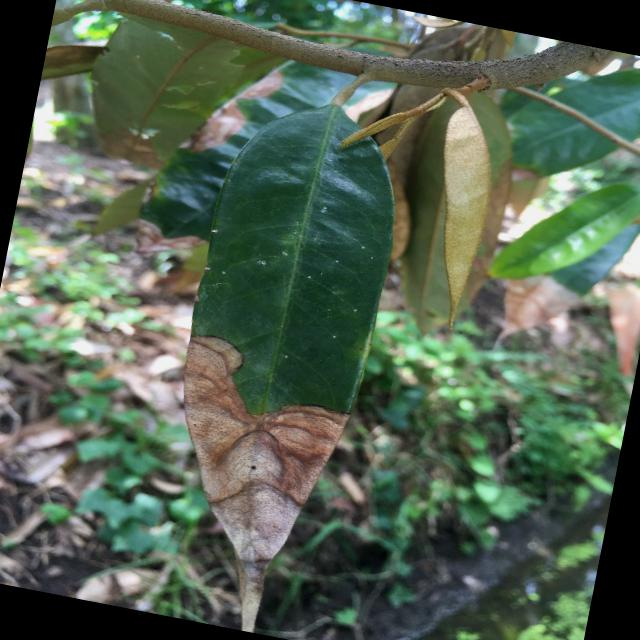Leaf Blight: (128, 75, 426, 639)
